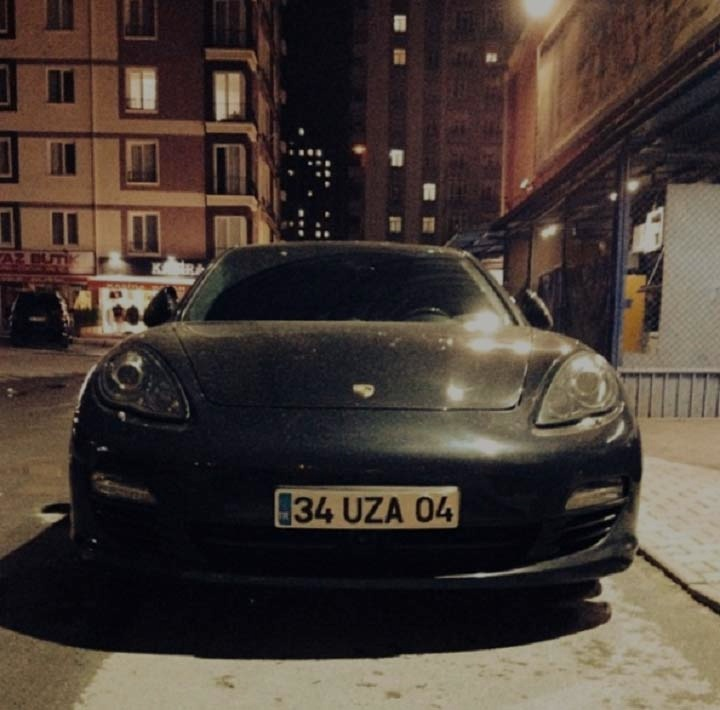plaka: (295, 491, 457, 530)
